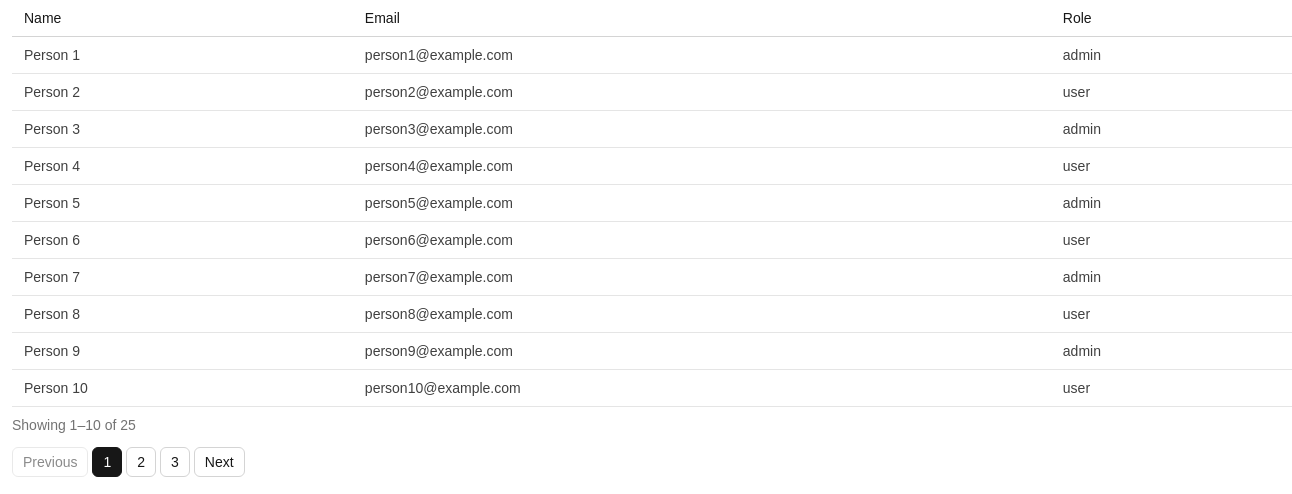
it: Table local mode › marks exactly one page button aria-current=page and natively disables prev/next at the ends
The width and height of the screenshot is (1292, 494).
Expected: the button "Previous" is disabled, [12,447,88,477]
Expected: the button "Next" is enabled, [194,447,245,477]
Click the button "3" at (175, 462), box [160,447,190,477]
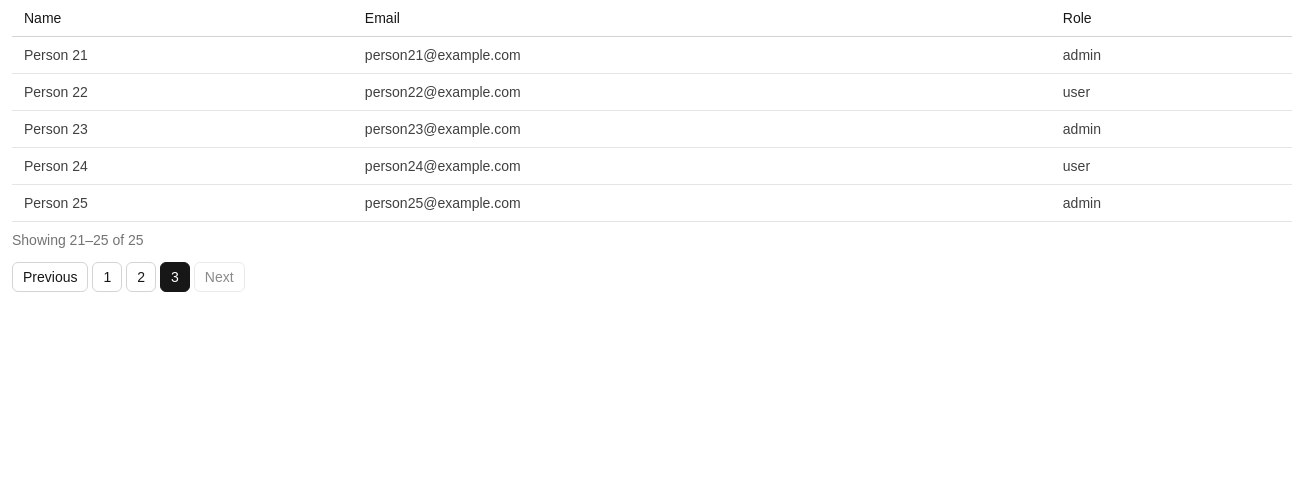
Expected: the button "3" is shown, [160,262,190,292]
Expected: the button "Previous" is enabled, [12,262,88,292]
Expected: the button "Next" is disabled, [194,262,245,292]
